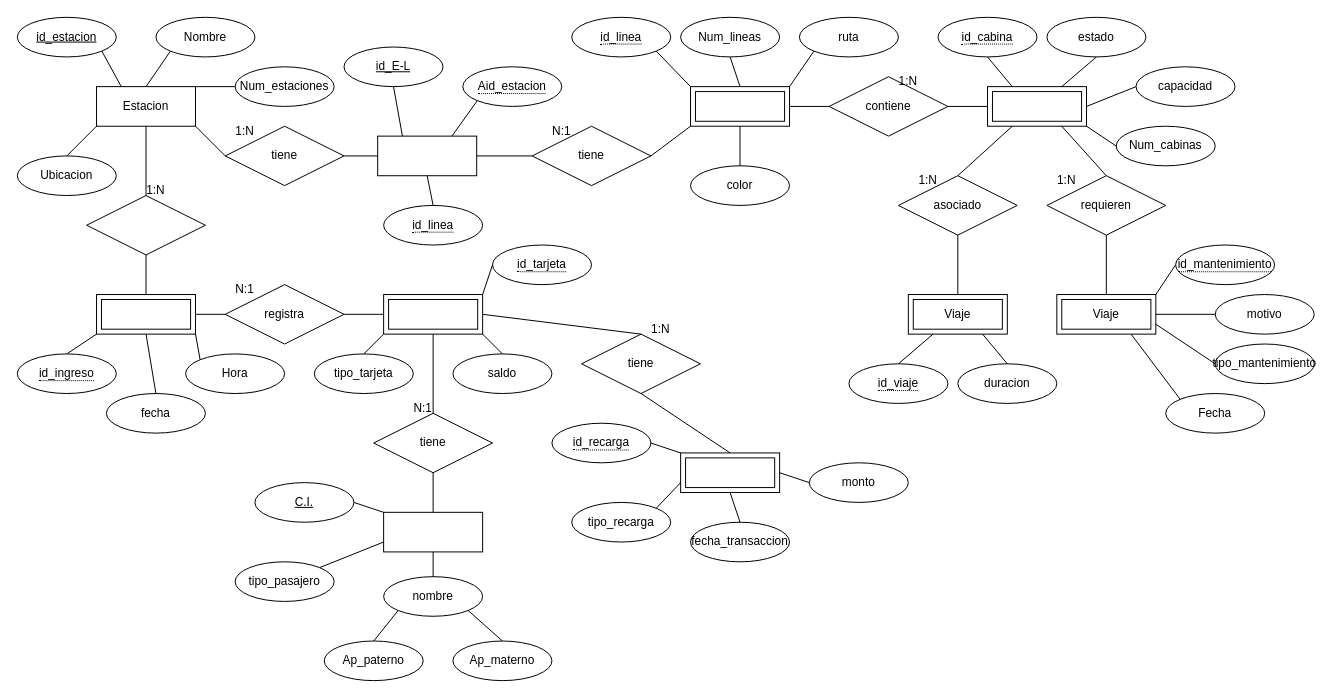
This 1334x698 diagram has some shape labels left out. The centre of each missing label's shape, as x and y in pixels:
"Cabina" goes at pixel 1037 106.
"E-L" goes at pixel 427 155.
"Ingreso" goes at pixel 146 314.
"Linea" goes at pixel 740 106.
"Pasajero" goes at pixel 433 531.
"realiza" goes at pixel 145 225.
"Recarga" goes at pixel 730 472.
"Tarjeta" goes at pixel 433 314.
